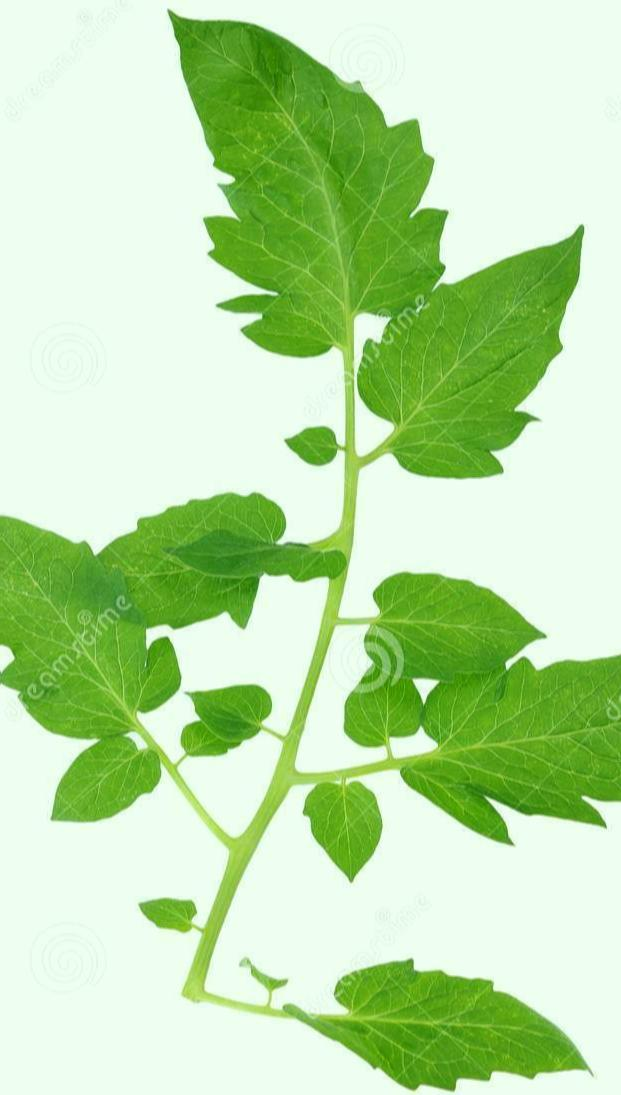Tomato leaf: (114, 0, 440, 370), (333, 213, 621, 528), (302, 925, 612, 1095), (0, 474, 178, 758), (397, 658, 621, 849), (97, 451, 306, 645), (340, 558, 578, 709)
